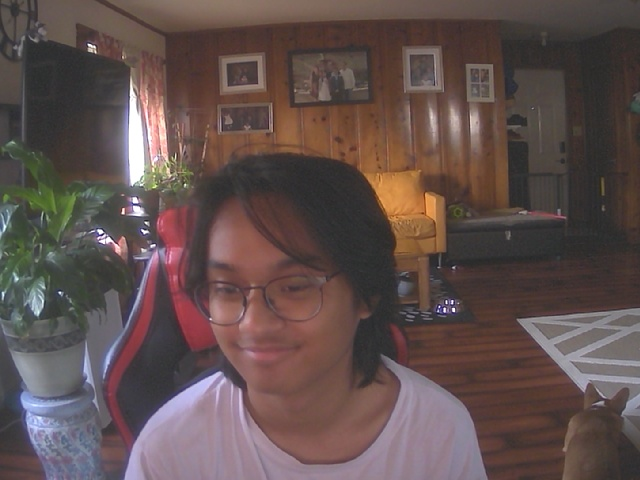happy: (187, 167, 387, 394)
